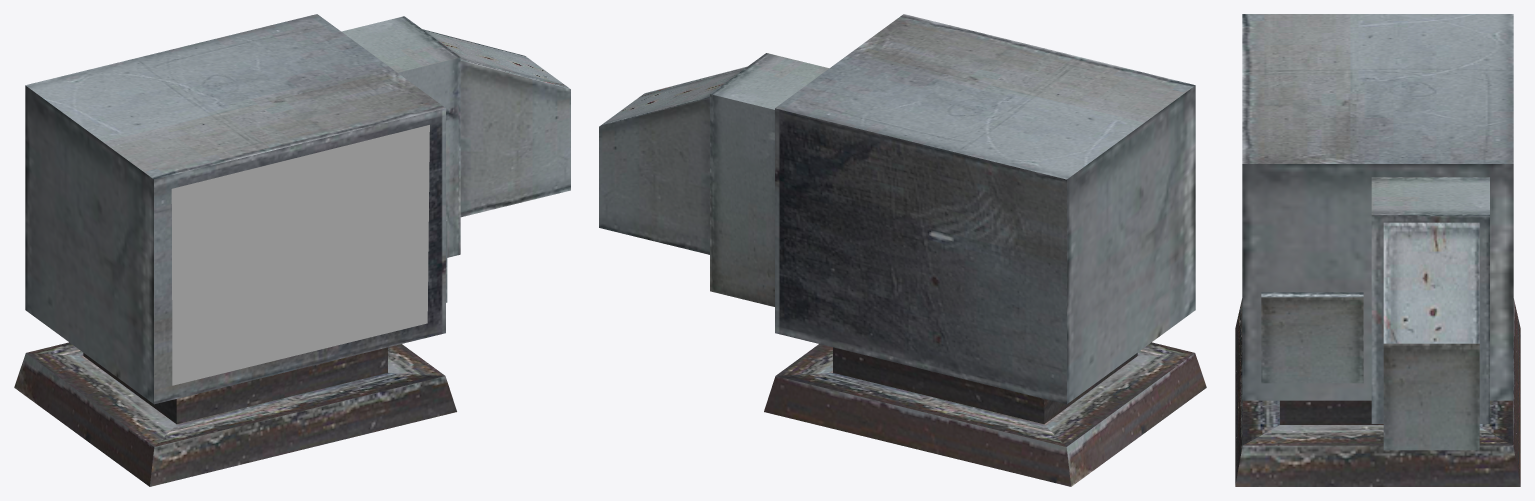
The model's file is Air_vent1.fbx.
3 views of the same model, side by side, from view 1: azimuth 30°, elevation 25°; view 2: azimuth 150°, elevation 25°; view 3: azimuth 270°, elevation 25° (orthographic). The views are drawn at different scales.
Parts seen in each view (by area): view 1: Air_vent1; view 2: Air_vent1; view 3: Air_vent1.
Boxes of the visible parts, box(x1,y1,x2,y2) form: Air_vent1: box(14, 14, 570, 486); Air_vent1: box(599, 14, 1206, 486); Air_vent1: box(1235, 14, 1520, 486).
Bounding box in the file's own units: 191 × 113 × 91.45.
